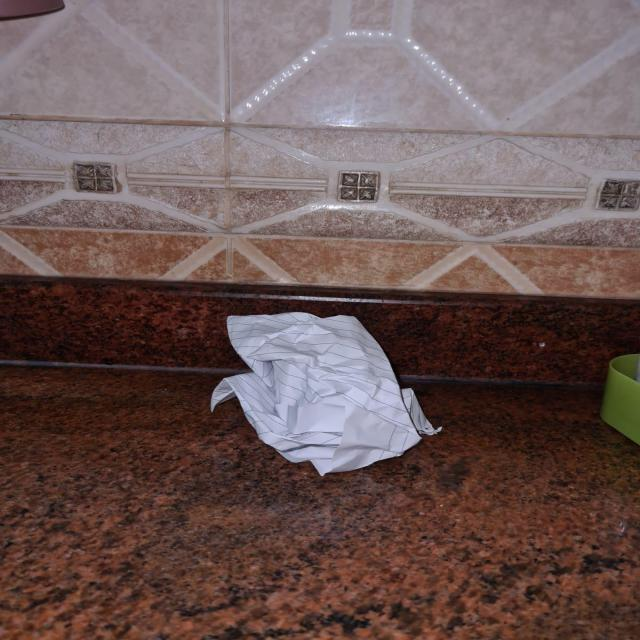Organik: (203, 299, 438, 467)
